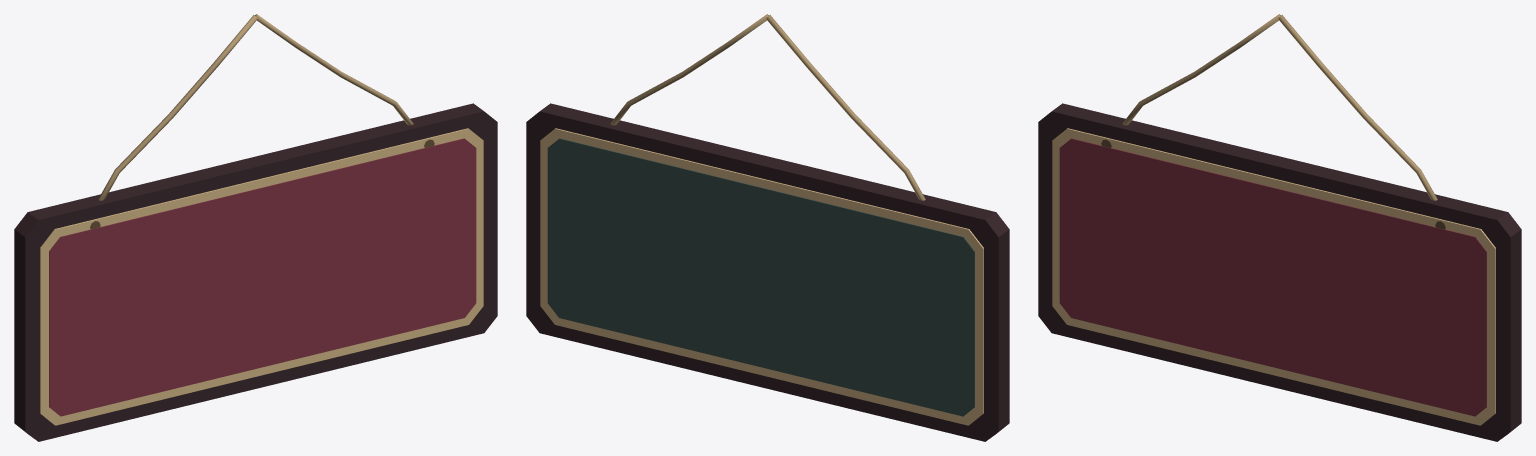
File: shop_sign.glb
The picture shows the model from 3 angles, left to right: view 1: azimuth 30°, elevation 25°; view 2: azimuth 150°, elevation 25°; view 3: azimuth 330°, elevation 25°; orthographic projection.
Visible parts, largest first — view 1: shop_sign; view 2: shop_sign; view 3: shop_sign.
Part boxes in pixels (x1=…): shop_sign: x1=14, y1=14, x2=497, y2=441; shop_sign: x1=526, y1=14, x2=1009, y2=441; shop_sign: x1=1038, y1=14, x2=1521, y2=441.
Bounding box in the file's own units: 0.998 × 0.7445 × 0.05.
